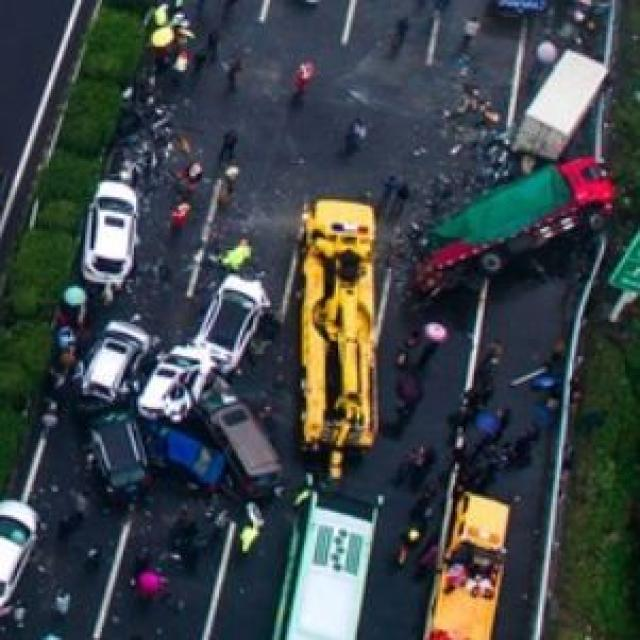traffic_incident: (75, 256, 262, 530), (408, 159, 614, 292)
